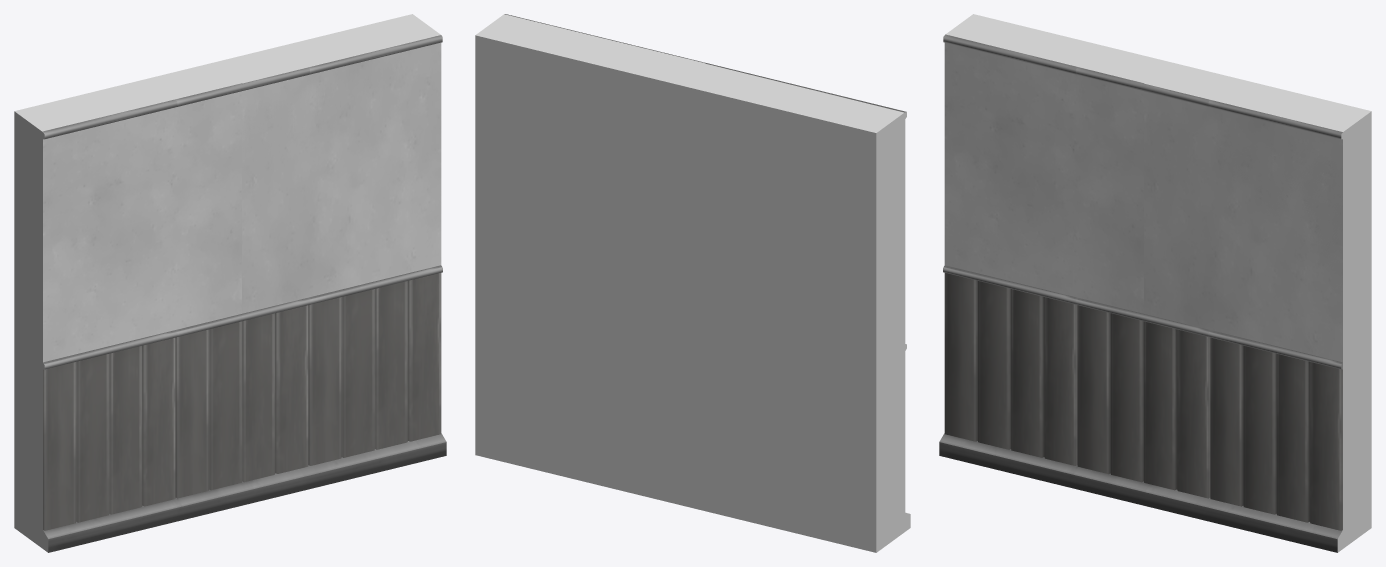
Rendered from walltileset2.fbx.
3 renders of one model, left to right at view 1: azimuth 30°, elevation 25°; view 2: azimuth 150°, elevation 25°; view 3: azimuth 330°, elevation 25°, orthographic.
Visible parts, largest first — view 1: 2L, 1I; view 2: 2L, 1I; view 3: 2L, 1I.
Boxes of the visible parts, <box> form: 2L: <box>14,14,446,552</box>; 1I: <box>214,14,446,503</box>; 2L: <box>475,14,910,552</box>; 1I: <box>475,14,705,503</box>; 2L: <box>939,14,1371,552</box>; 1I: <box>1138,62,1371,552</box>.
Size of the model in its own units: 200 by 200 by 29.65.
